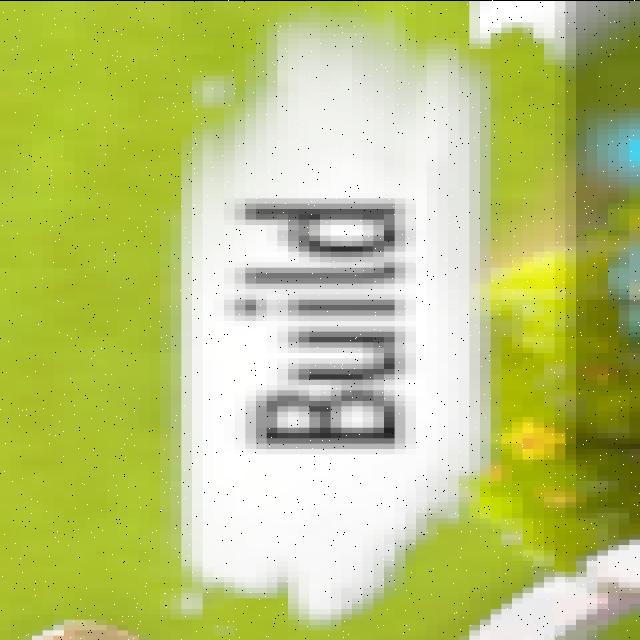build: (215, 182, 432, 462)
